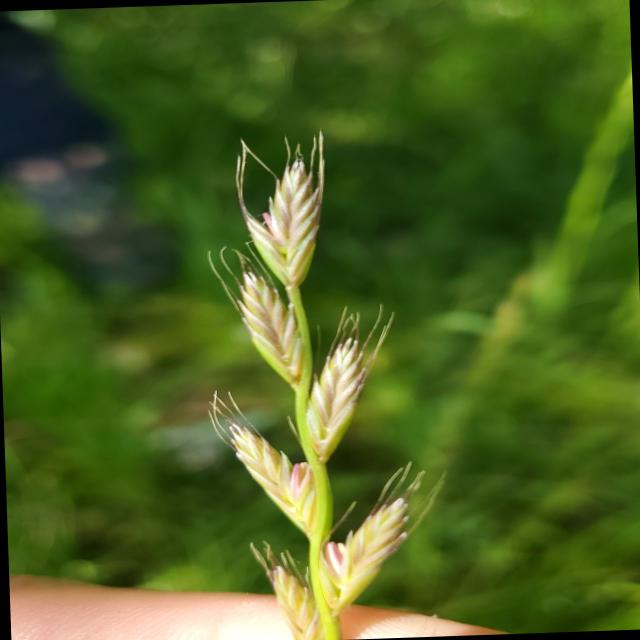Lolium: (192, 123, 455, 640)
